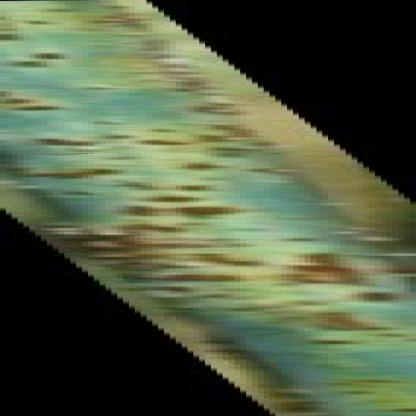wheat Stem Rust: (0, 3, 148, 71), (41, 164, 327, 197), (57, 238, 378, 264), (27, 127, 296, 157), (57, 206, 354, 232), (261, 366, 415, 407), (232, 302, 416, 336), (115, 269, 378, 291), (37, 76, 241, 103)
